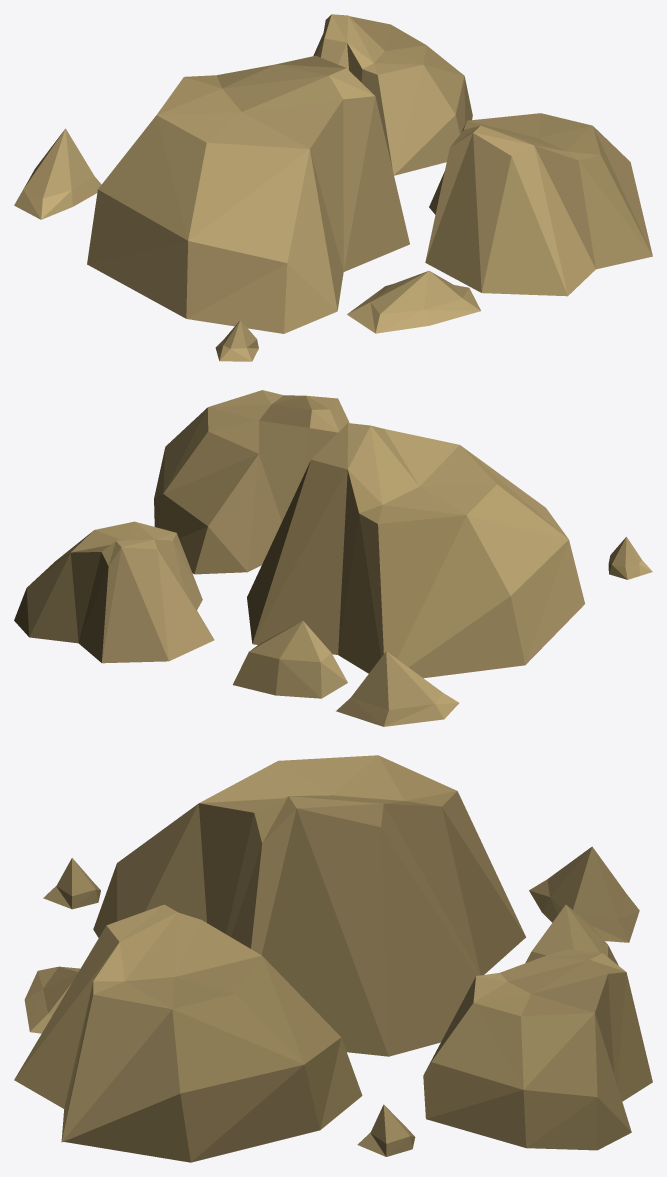
Rendered from dsrock2.fbx.
The picture shows the model from 3 angles, top to bottom: view 1: azimuth 30°, elevation 25°; view 2: azimuth 150°, elevation 25°; view 3: azimuth 270°, elevation 25°; orthographic projection. The views are drawn at different scales.
Visible parts, largest first — view 1: Object Rockslide 2024-03-16_08-18-33; view 2: Object Rockslide 2024-03-16_08-18-33; view 3: Object Rockslide 2024-03-16_08-18-33.
Part boxes in pixels (x1=…): Object Rockslide 2024-03-16_08-18-33: x1=14, y1=14, x2=652, y2=361; Object Rockslide 2024-03-16_08-18-33: x1=14, y1=390, x2=652, y2=726; Object Rockslide 2024-03-16_08-18-33: x1=14, y1=755, x2=652, y2=1162.
Size of the model in its own units: 25000 by 8700 by 24200.
